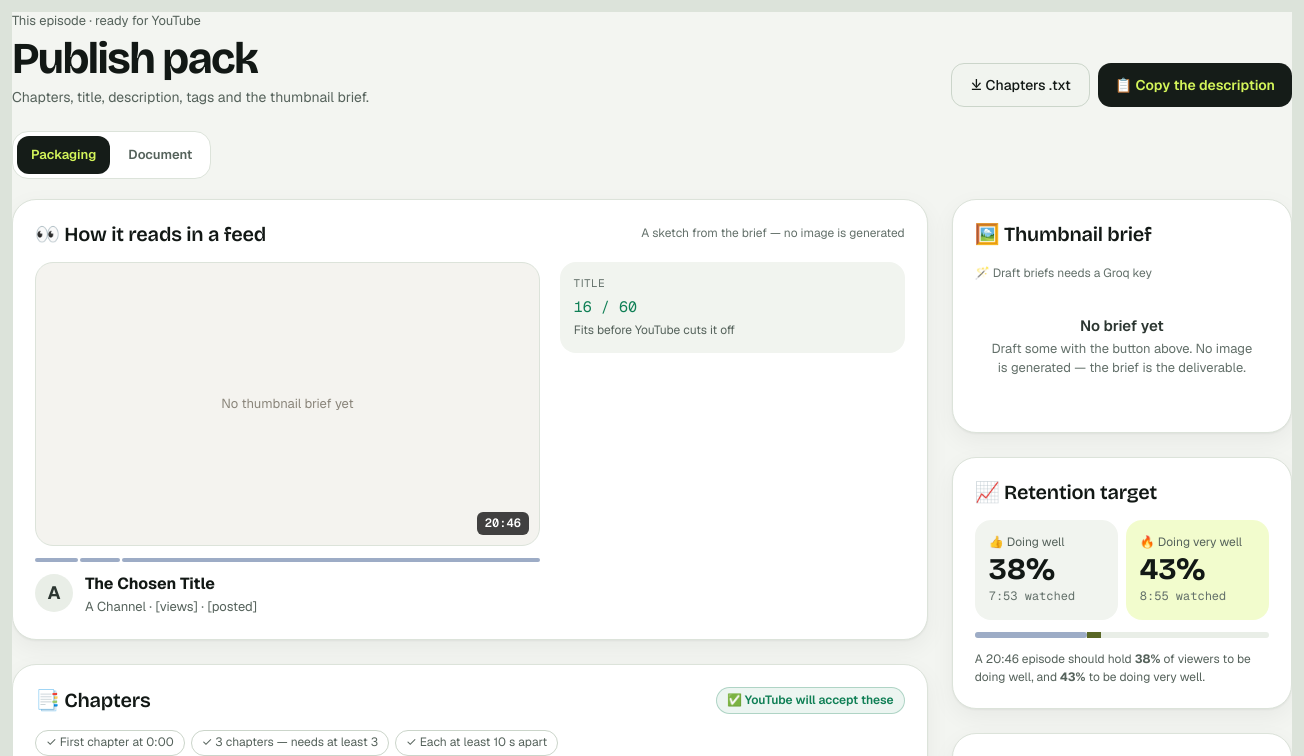
Test: the publish pack page › copies the description exactly as the pack assembles it
Click the button "📋 Copy the description": click(1195, 85) [1098,63,1292,107]
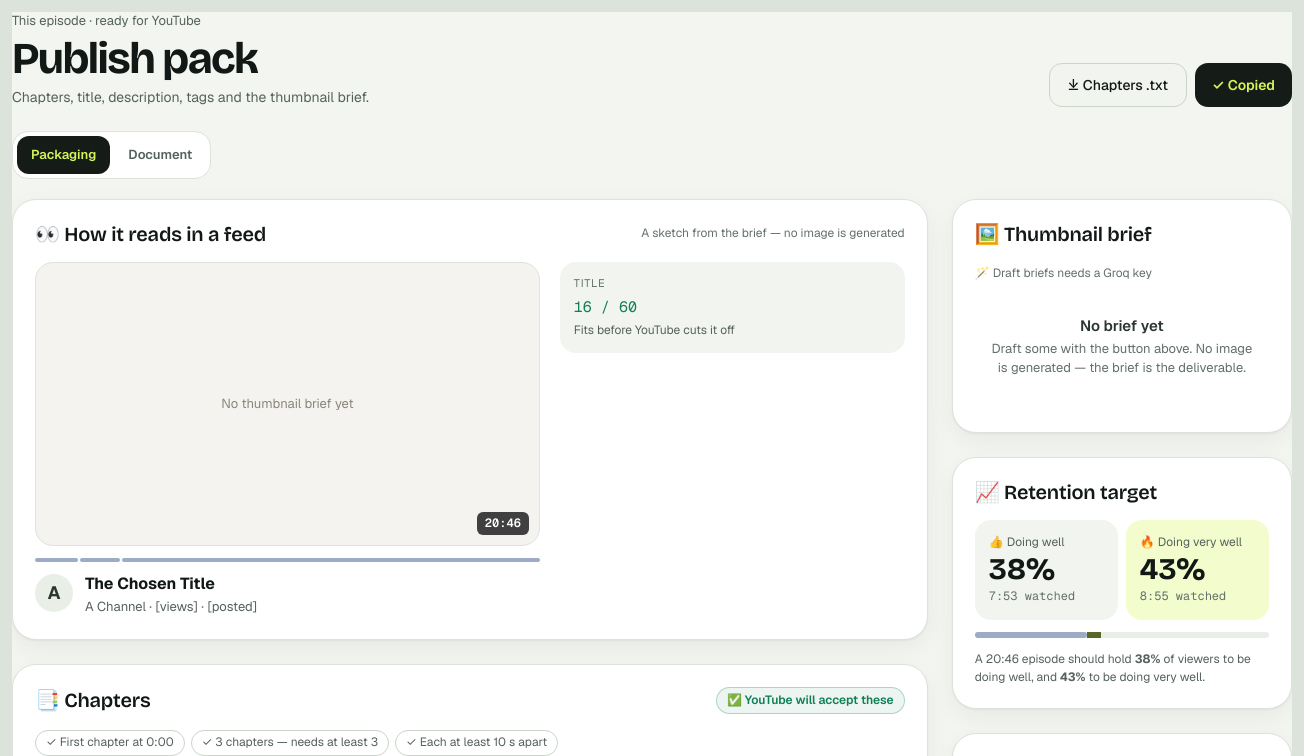
Expected: the text "✓ Copied" is shown, [1195,63,1292,107]
